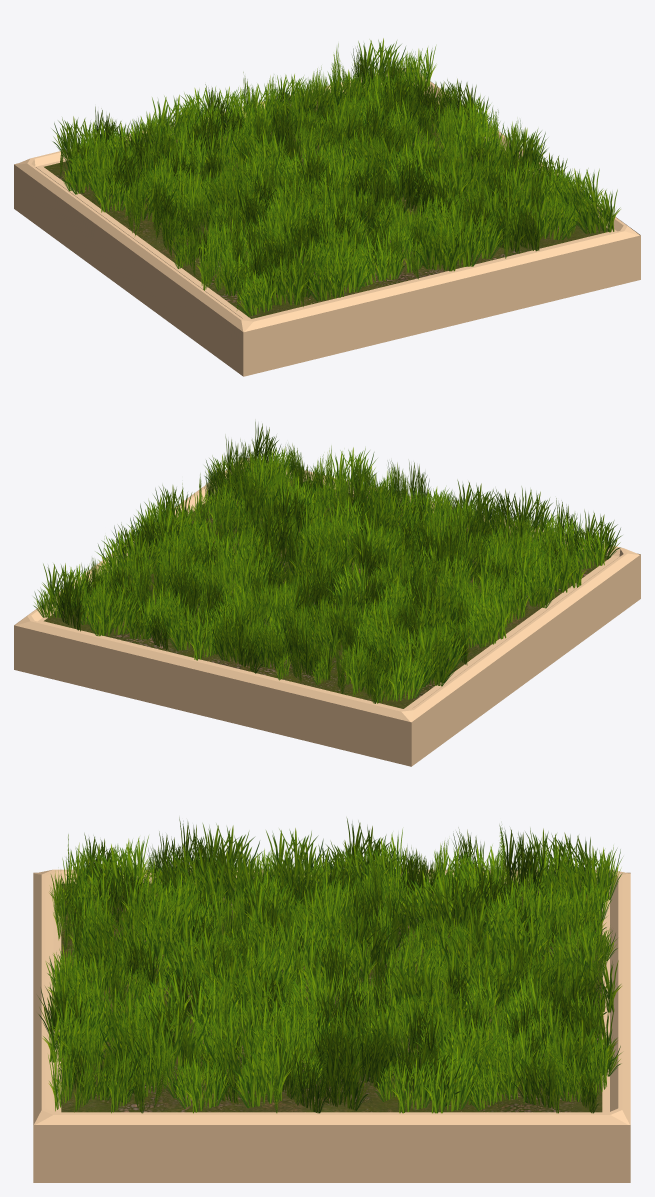
The picture shows the model from 3 angles, top to bottom: view 1: azimuth 30°, elevation 25°; view 2: azimuth 150°, elevation 25°; view 3: azimuth 270°, elevation 25°; orthographic projection. The views are drawn at different scales.
Visible parts, largest first — view 1: Empty.410; view 2: Empty.410; view 3: Empty.410.
Part boxes in pixels (left/top/right/bottom): Empty.410: left=14, top=38, right=640, bottom=376; Empty.410: left=14, top=421, right=640, bottom=766; Empty.410: left=33, top=817, right=630, bottom=1182.
Bounding box in the file's own units: 12.87 × 3.34 × 13.22.
Materials: 4 (3 with a texture image).
